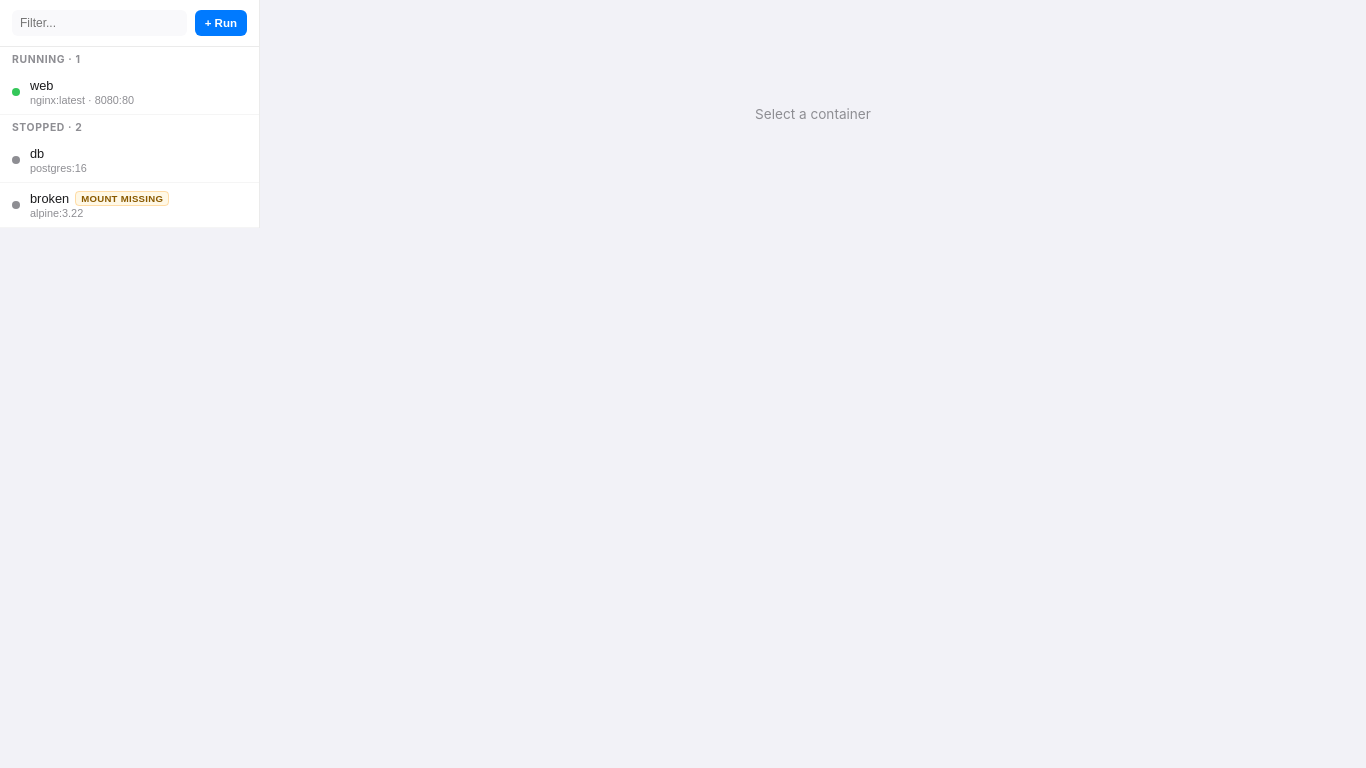
Test: ContainersView › opens the run dialog from the toolbar
The width and height of the screenshot is (1366, 768).
Expected: the text "web" is shown, [30,78,54,93]
Click the button "+ Run": (221, 23) [195,10,247,36]
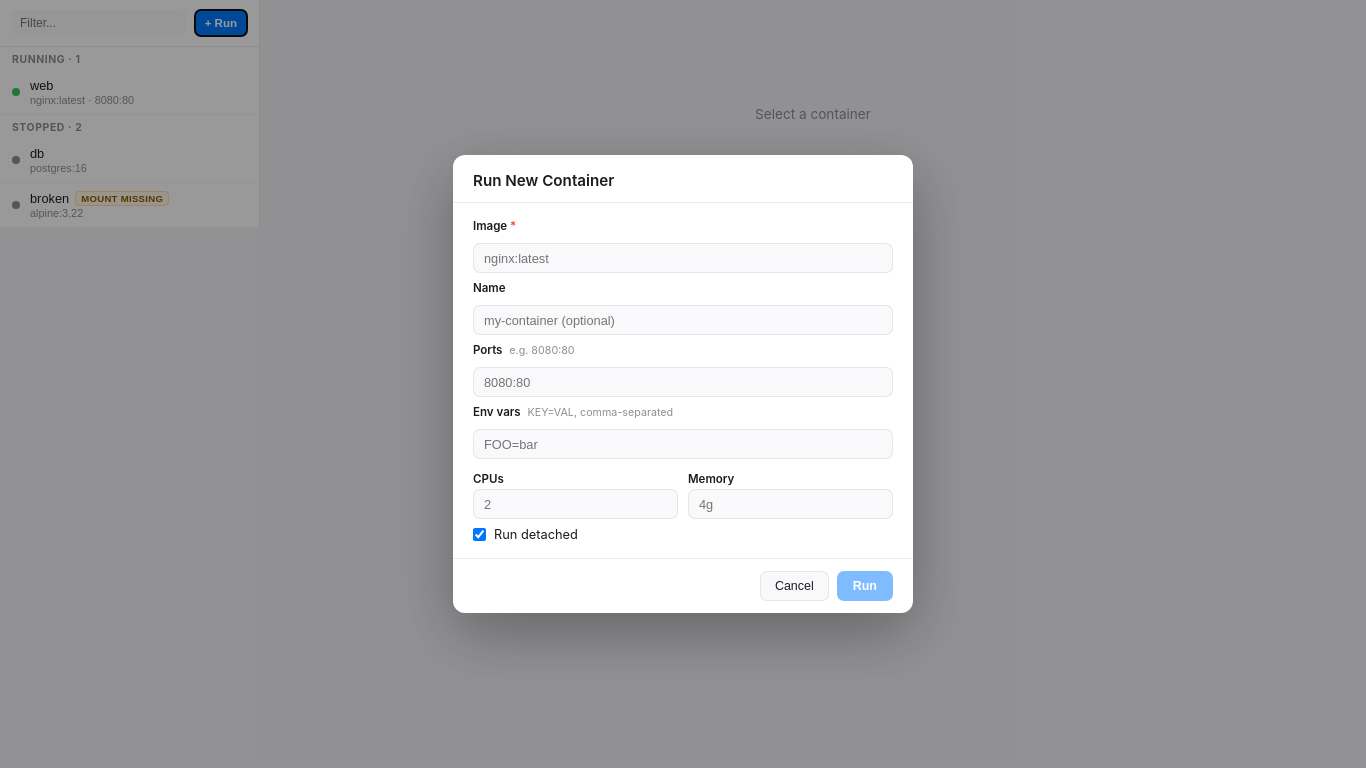
Now the heading "Run New Container" is shown, box [473,171,614,190]
